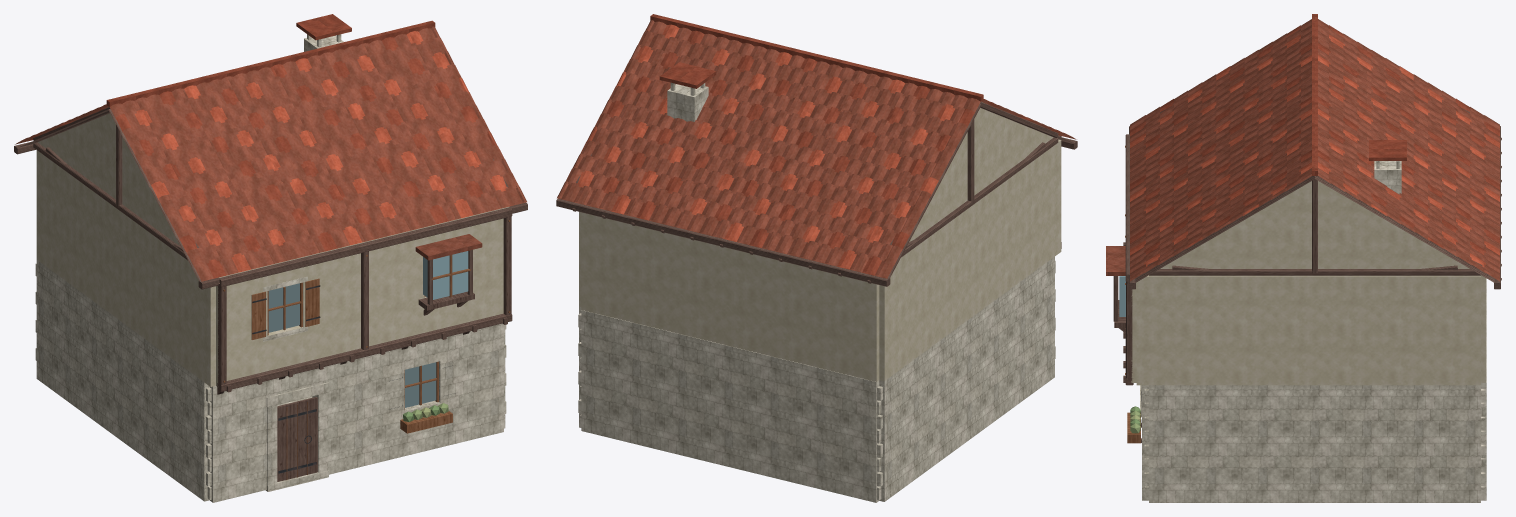
Rendered from B08_vivienda.glb.
The picture shows the model from 3 angles, left to right: view 1: azimuth 30°, elevation 25°; view 2: azimuth 150°, elevation 25°; view 3: azimuth 270°, elevation 25°; orthographic projection. The views are drawn at different scales.
Parts seen in each view (by area): view 1: AUR034_B08_clay_tiles, AUR034_B08_lower_masonry, AUR034_B08_upper_plaster, AUR034_B08_gable-1, AUR034_B08_entry_leaf0, AUR034_B08_head, AUR034_B08_sill, AUR034_B08_ridge, AUR034_B08_oriel2_front_glass, AUR034_B08_window1_glazing, AUR034_B08_gable_tie-1, AUR034_B08_window0_glazing (+14 smaller); view 2: AUR034_B08_clay_tiles, AUR034_B08_lower_masonry, AUR034_B08_upper_plaster, AUR034_B08_gable-1, AUR034_B08_fascia1, AUR034_B08_ridge, AUR034_B08_gable_tie-1, AUR034_B08_chimney, AUR034_B08_dressed_corner_stones, AUR034_B08_cowl, AUR034_B08_roof_sheathing, AUR034_B08_gable_kingpost-1; view 3: AUR034_B08_clay_tiles, AUR034_B08_lower_masonry, AUR034_B08_upper_plaster, AUR034_B08_gable1, AUR034_B08_gable_tie1, AUR034_B08_roof_sheathing, AUR034_B08_dressed_corner_stones, AUR034_B08_ridge, AUR034_B08_cowl, AUR034_B08_head, AUR034_B08_chimney, AUR034_B08_post2 (+2 smaller).
Boxes of the visible parts, left/top/right/bottom form: AUR034_B08_clay_tiles: left=15, top=26, right=526, bottom=281; AUR034_B08_lower_masonry: left=36, top=260, right=505, bottom=502; AUR034_B08_upper_plaster: left=36, top=150, right=508, bottom=386; AUR034_B08_gable-1: left=38, top=113, right=179, bottom=245; AUR034_B08_entry_leaf0: left=277, top=397, right=317, bottom=481; AUR034_B08_head: left=219, top=208, right=512, bottom=287; AUR034_B08_sill: left=217, top=313, right=512, bottom=391; AUR034_B08_ridge: left=106, top=20, right=435, bottom=106; AUR034_B08_oriel2_front_glass: left=433, top=251, right=468, bottom=299; AUR034_B08_window1_glazing: left=268, top=283, right=299, bottom=332; AUR034_B08_gable_tie-1: left=33, top=142, right=187, bottom=260; AUR034_B08_window0_glazing: left=405, top=362, right=436, bottom=407; AUR034_B08_clay_tiles: left=557, top=20, right=1076, bottom=278; AUR034_B08_lower_masonry: left=579, top=256, right=1054, bottom=502; AUR034_B08_upper_plaster: left=579, top=139, right=1061, bottom=381; AUR034_B08_gable-1: left=909, top=102, right=1053, bottom=242; AUR034_B08_fascia1: left=556, top=198, right=890, bottom=286; AUR034_B08_ridge: left=650, top=14, right=983, bottom=101; AUR034_B08_gable_tie-1: left=901, top=137, right=1058, bottom=257; AUR034_B08_chimney: left=667, top=84, right=708, bottom=121; AUR034_B08_dressed_corner_stones: left=578, top=260, right=1055, bottom=500; AUR034_B08_cowl: left=659, top=62, right=716, bottom=88; AUR034_B08_roof_sheathing: left=888, top=103, right=1073, bottom=277; AUR034_B08_gable_kingpost-1: left=967, top=119, right=974, bottom=203; AUR034_B08_clay_tiles: left=1130, top=19, right=1499, bottom=281; AUR034_B08_lower_masonry: left=1142, top=278, right=1486, bottom=502; AUR034_B08_upper_plaster: left=1131, top=275, right=1486, bottom=385; AUR034_B08_gable1: left=1149, top=181, right=1480, bottom=276; AUR034_B08_gable_tie1: left=1149, top=269, right=1480, bottom=275; AUR034_B08_roof_sheathing: left=1135, top=176, right=1494, bottom=282; AUR034_B08_dressed_corner_stones: left=1144, top=389, right=1485, bottom=499; AUR034_B08_ridge: left=1312, top=14, right=1317, bottom=175; AUR034_B08_cowl: left=1369, top=140, right=1406, bottom=160; AUR034_B08_head: left=1125, top=134, right=1129, bottom=281; AUR034_B08_chimney: left=1374, top=161, right=1401, bottom=194; AUR034_B08_post2: left=1126, top=278, right=1132, bottom=381.
Size of the model in its own units: 8.96 by 9.03 by 9.55.
13 materials, 8 textured.
